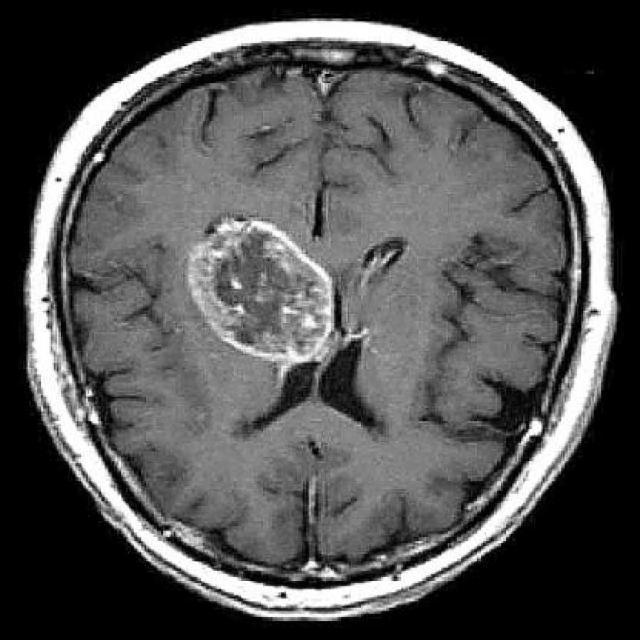Brain-Tumor: (175, 205, 352, 373)
